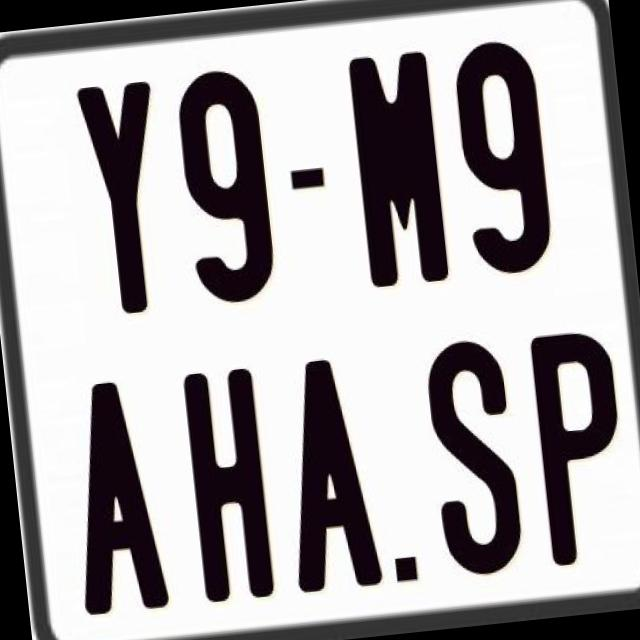9: (448, 32, 559, 278), (174, 64, 278, 306)
A: (61, 376, 178, 623), (271, 352, 384, 600)
H: (178, 367, 278, 609)
M: (344, 45, 452, 286)
P: (528, 328, 632, 574)
S: (422, 332, 532, 578)
Y: (75, 78, 173, 318)
